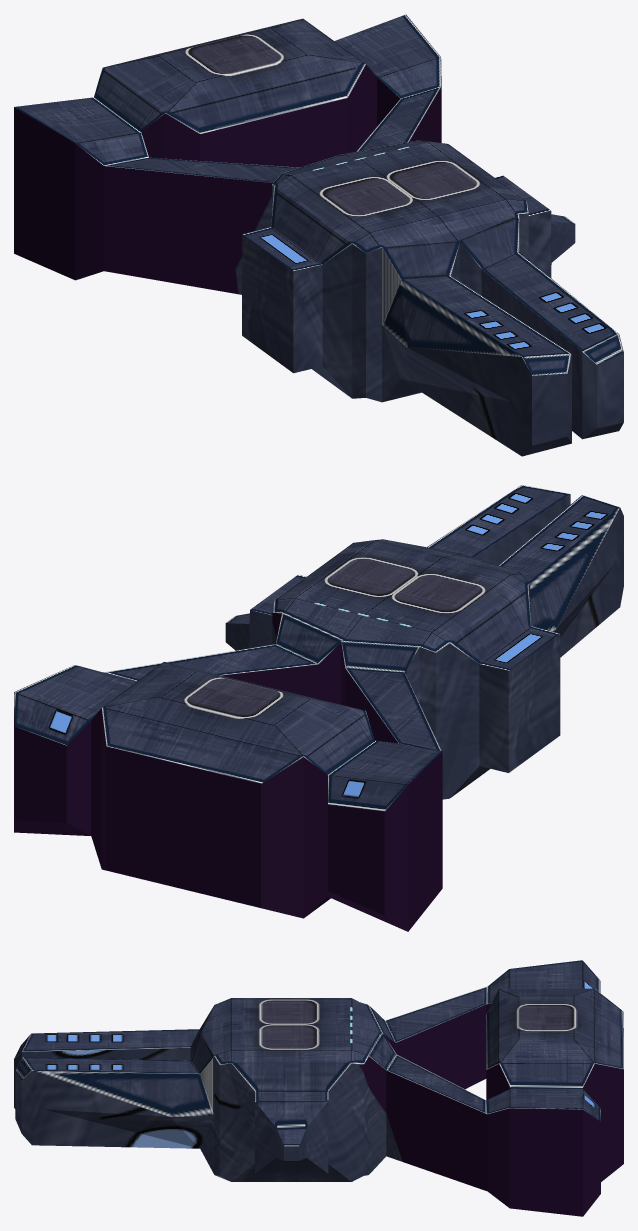
File: bossModel2.fbx
3 views of the same model, one above another, from view 1: azimuth 30°, elevation 25°; view 2: azimuth 150°, elevation 25°; view 3: azimuth 270°, elevation 25° (orthographic). The views are drawn at different scales.
Visible parts, largest first — view 1: Cube.001; view 2: Cube.001; view 3: Cube.001.
Part boxes in pixels (x1=…): Cube.001: x1=14, y1=14, x2=623, y2=456; Cube.001: x1=14, y1=485, x2=623, y2=931; Cube.001: x1=14, y1=960, x2=623, y2=1216.
Bounding box in the file's own units: 625 × 263 × 1098.
Materials: 1 (1 with a texture image).
